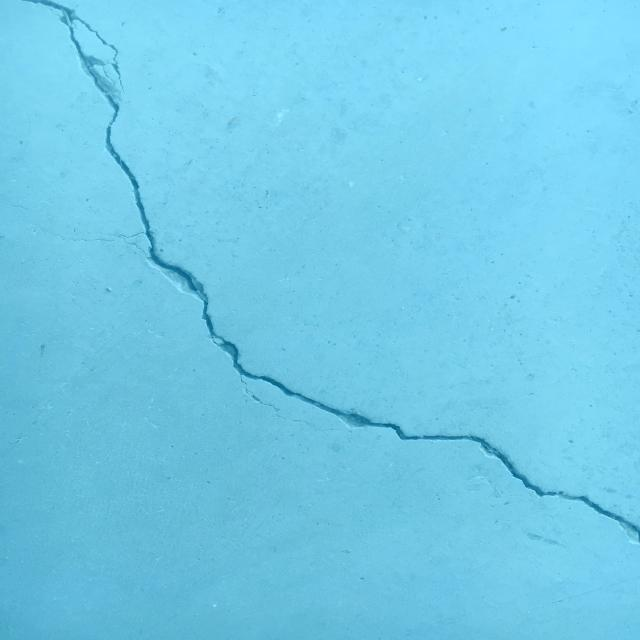crack: (20, 0, 639, 543), (8, 204, 28, 210)
